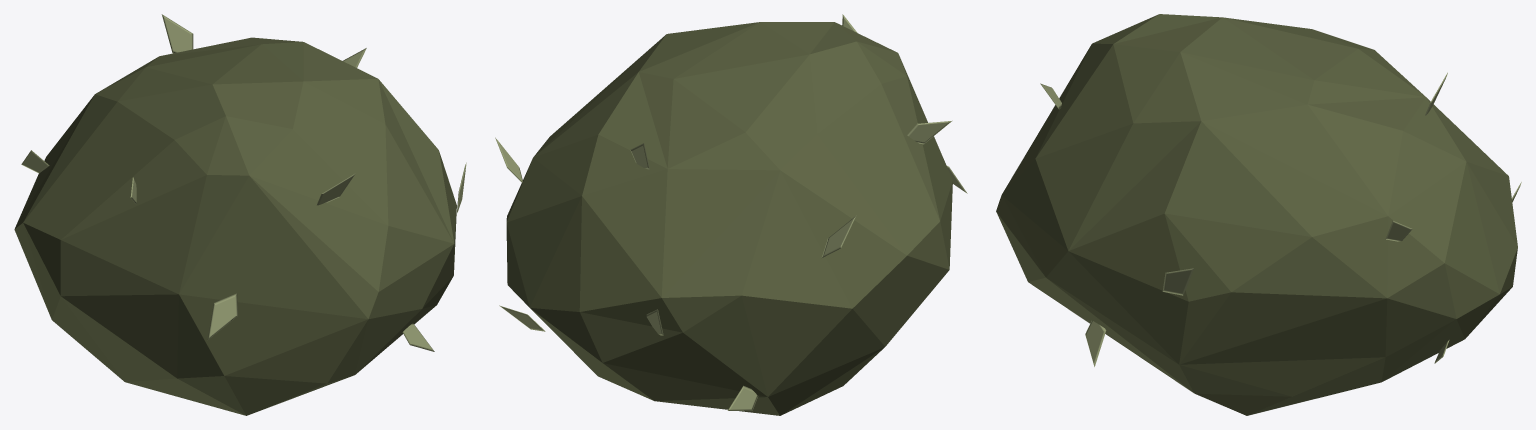
The model's file is FP Bush AJ.fbx.
The picture shows the model from 3 angles, left to right: view 1: azimuth 30°, elevation 25°; view 2: azimuth 150°, elevation 25°; view 3: azimuth 270°, elevation 25°; orthographic projection. The views are drawn at different scales.
Parts seen in each view (by area): view 1: Bush, Leaves; view 2: Bush, Leaves; view 3: Bush, Leaves.
Boxes of the visible parts, x1=… form: Bush: x1=14, y1=37, x2=456, y2=415; Leaves: x1=21, y1=14, x2=466, y2=351; Bush: x1=506, y1=22, x2=952, y2=415; Leaves: x1=495, y1=14, x2=967, y2=410; Bush: x1=996, y1=14, x2=1517, y2=415; Leaves: x1=1040, y1=72, x2=1521, y2=366.
Bounding box in the file's own units: 7.01 × 5.59 × 8.
